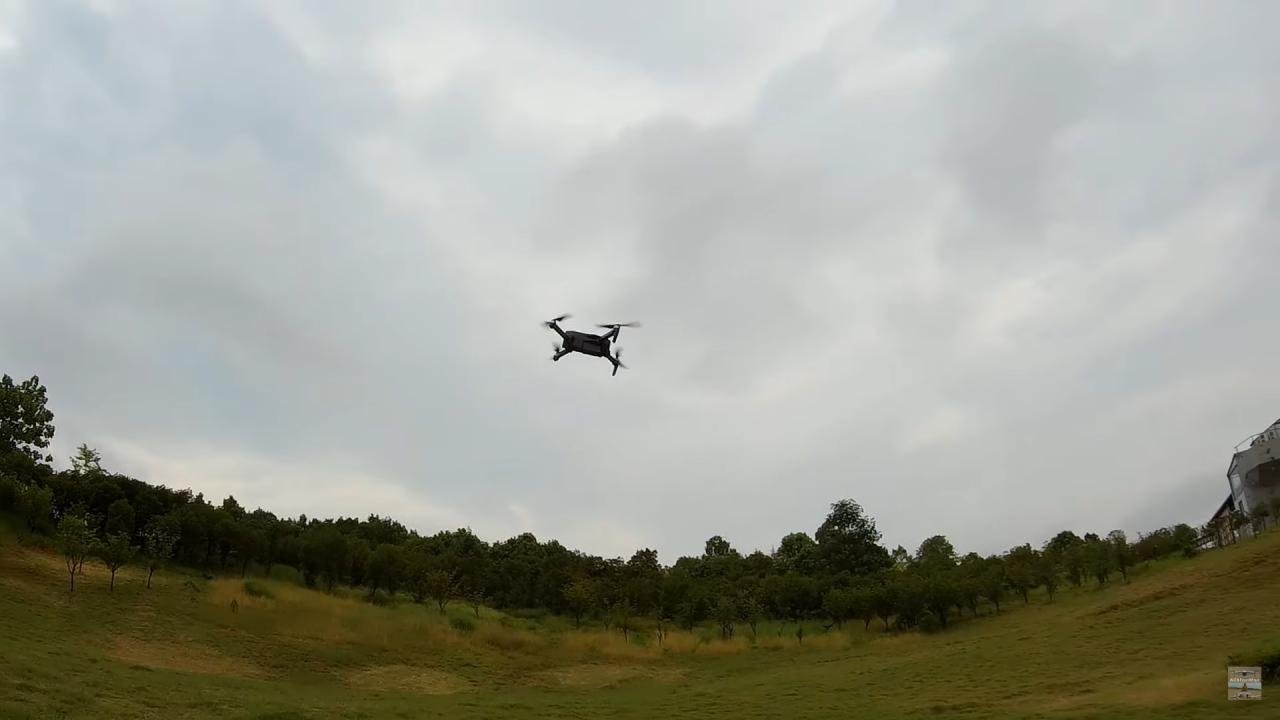Drone: (530, 304, 643, 383)
